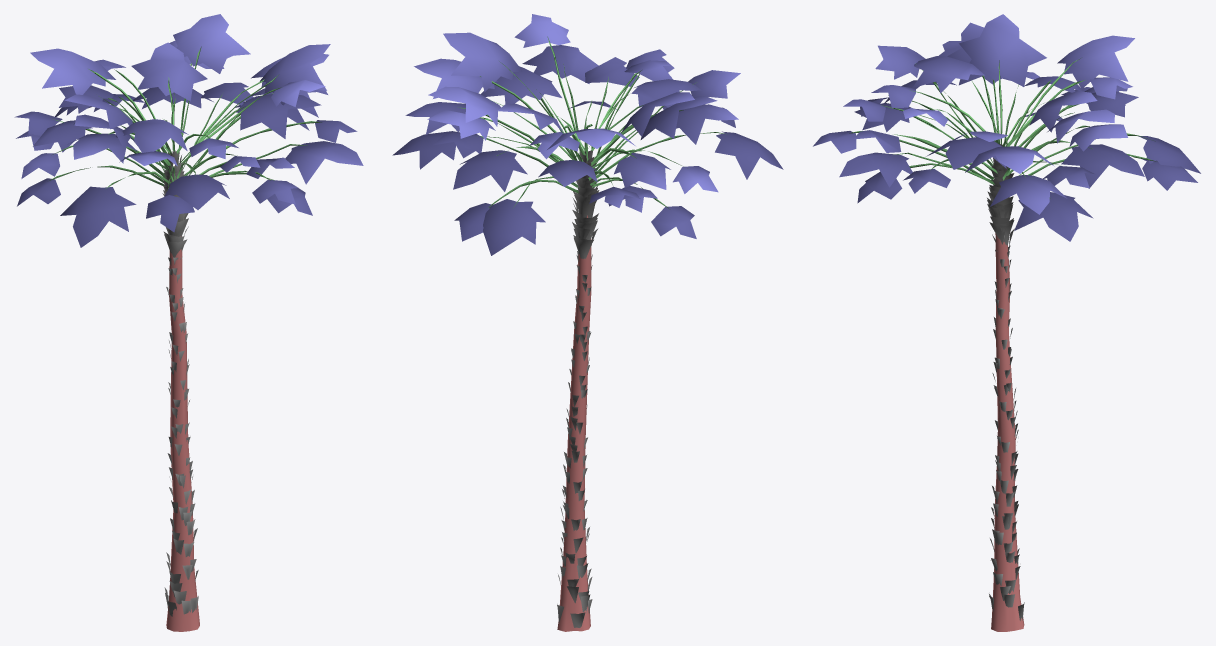
File: SM_tree_jungle_small_B.gltf
3 views of the same model, side by side, from view 1: azimuth 30°, elevation 25°; view 2: azimuth 150°, elevation 25°; view 3: azimuth 270°, elevation 25° (orthographic).
Parts seen in each view (by area): view 1: SM_tree_jungle_small_B; view 2: SM_tree_jungle_small_B; view 3: SM_tree_jungle_small_B.
Boxes of the visible parts, left/top/right/bottom form: SM_tree_jungle_small_B: left=14, top=14, right=363, bottom=631; SM_tree_jungle_small_B: left=392, top=14, right=783, bottom=631; SM_tree_jungle_small_B: left=813, top=14, right=1200, bottom=631.
Bounding box in the file's own units: 4.9 × 8.39 × 5.35.
